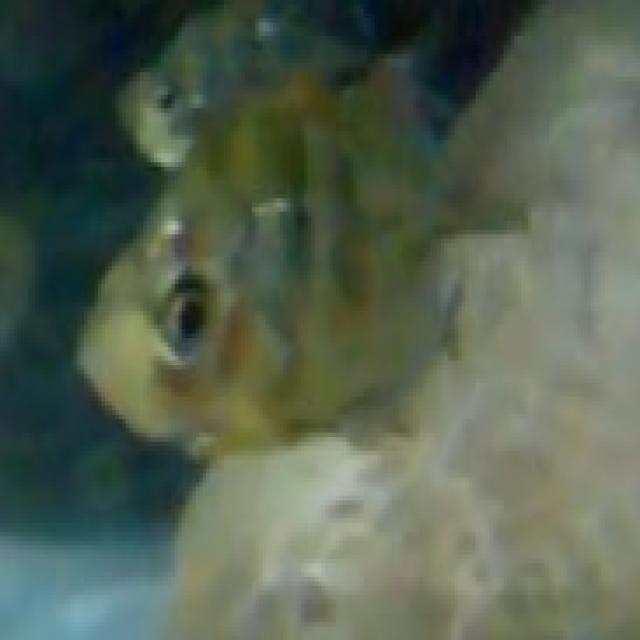Glass-Perchlet: (66, 0, 639, 515)
